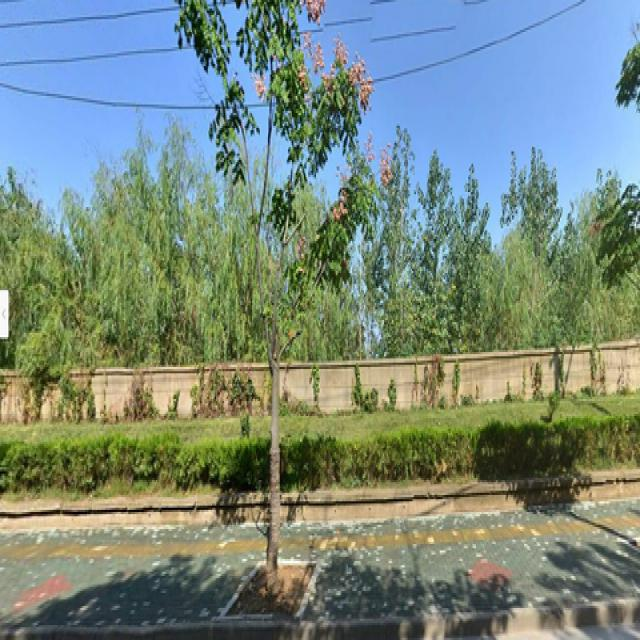koel: (204, 13, 349, 557)
